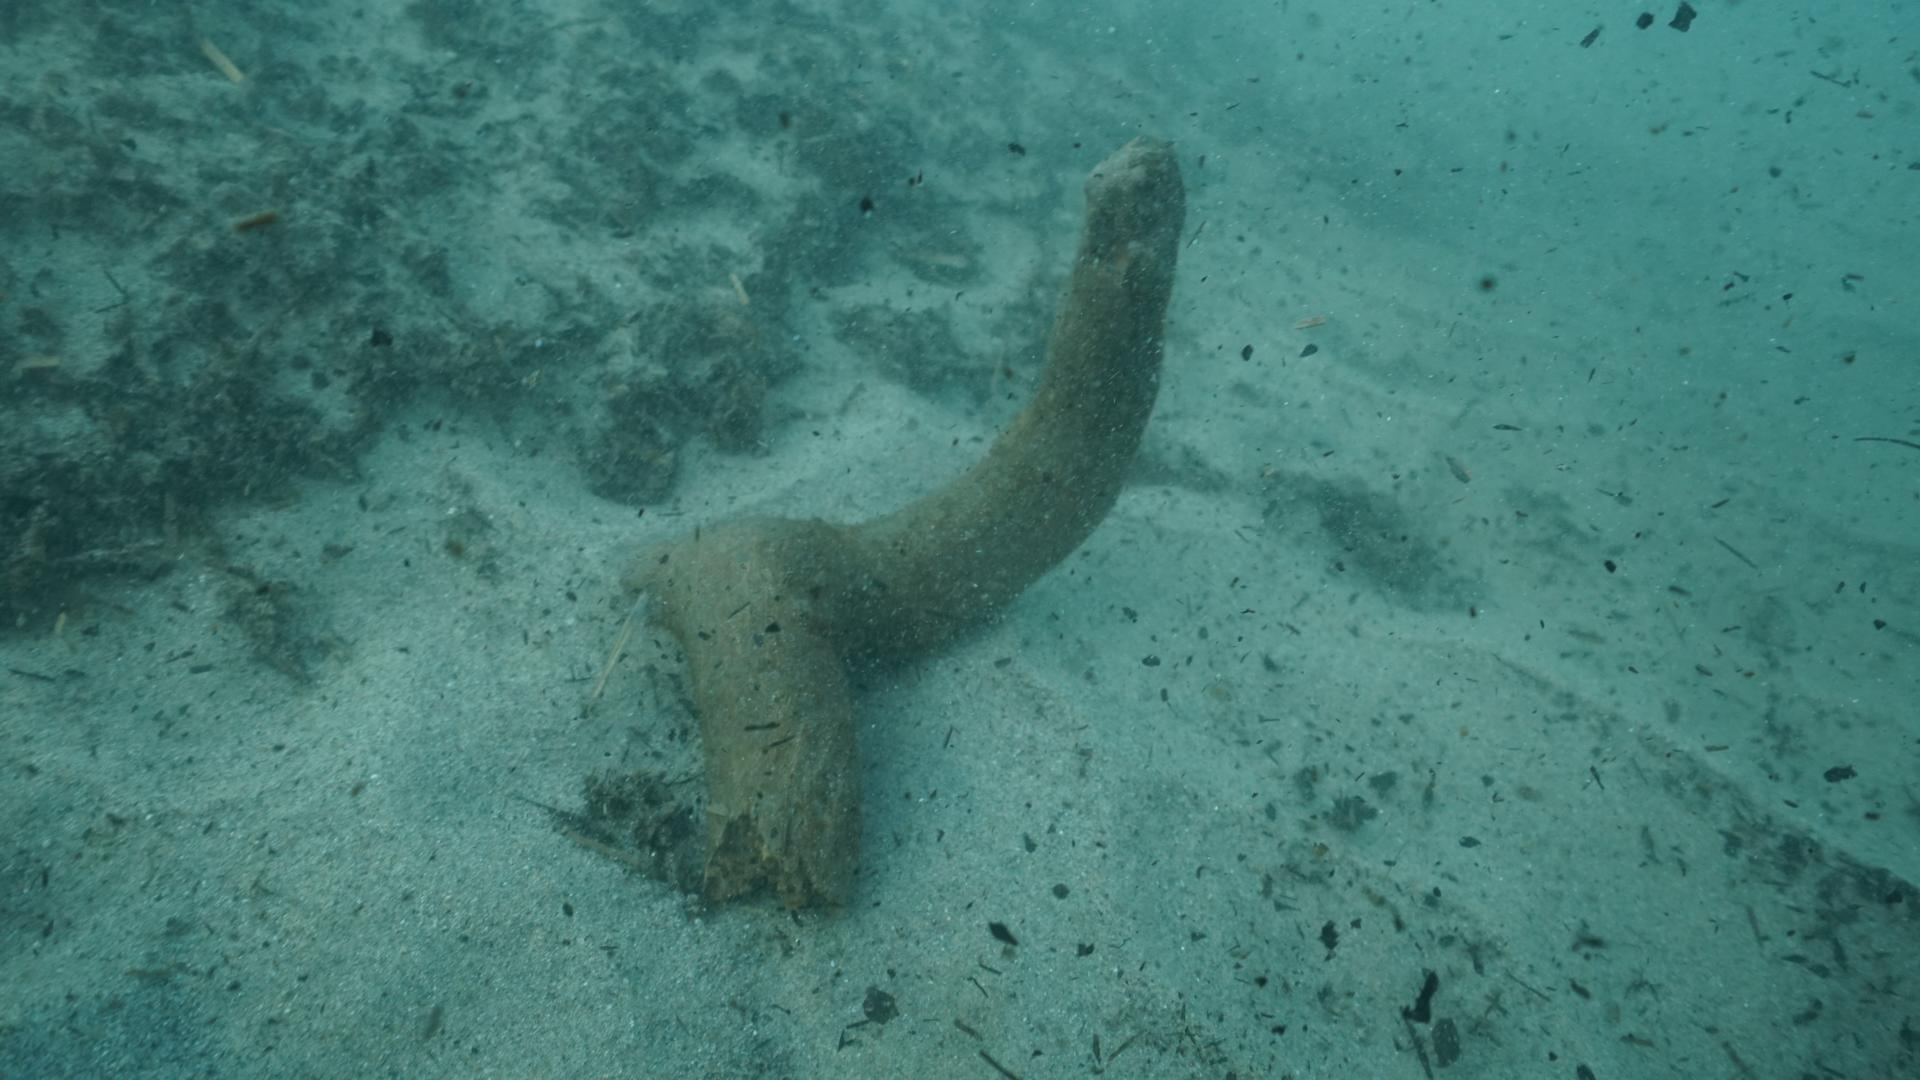wood: (618, 136, 1185, 899)
